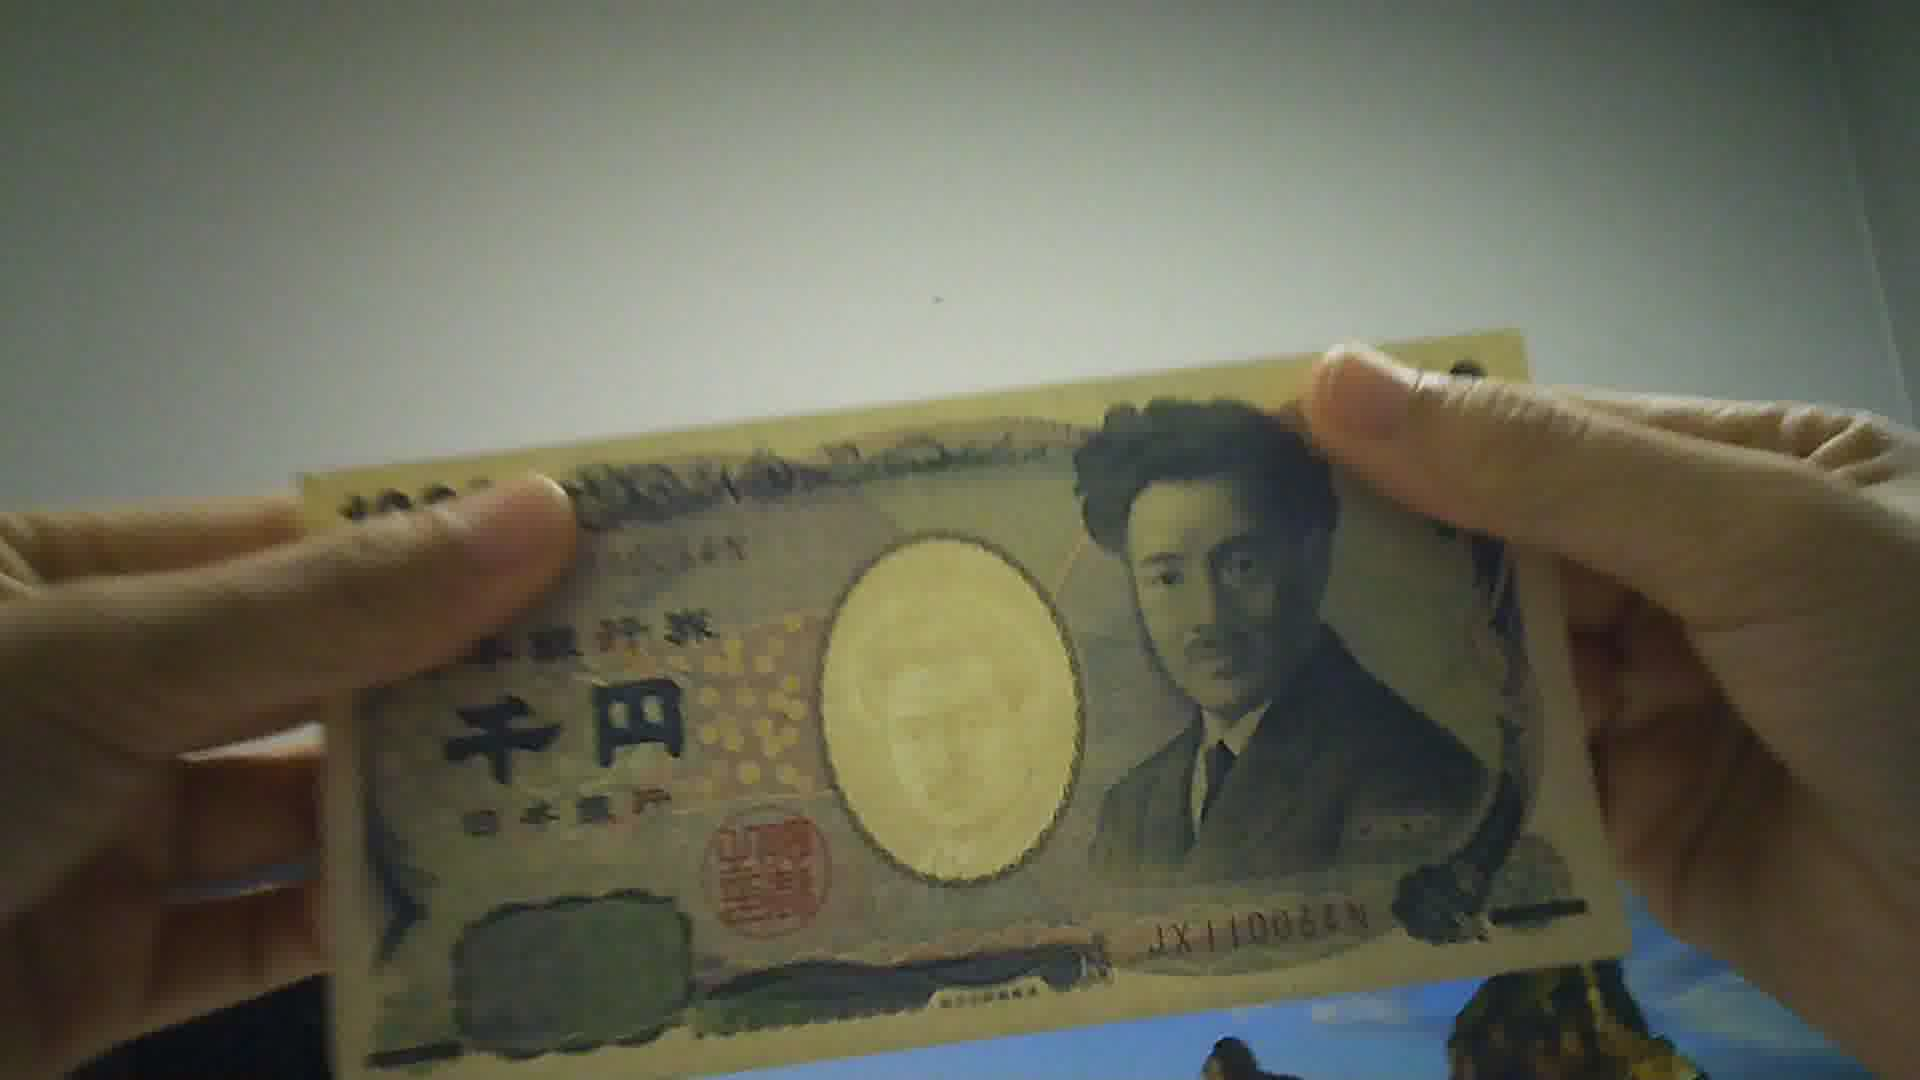1,000 Yen: (273, 340, 1629, 1079)
